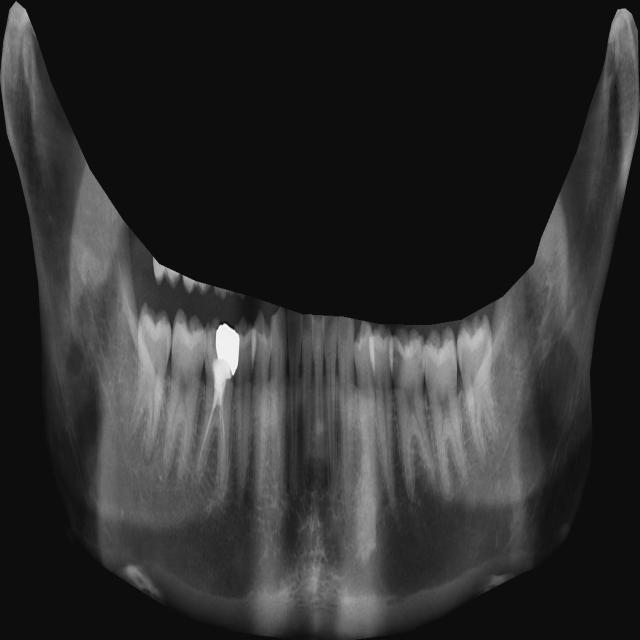mandibula: (0, 1, 640, 640)
